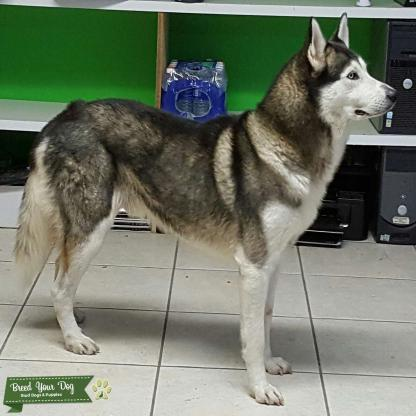husky: (15, 11, 399, 404)
